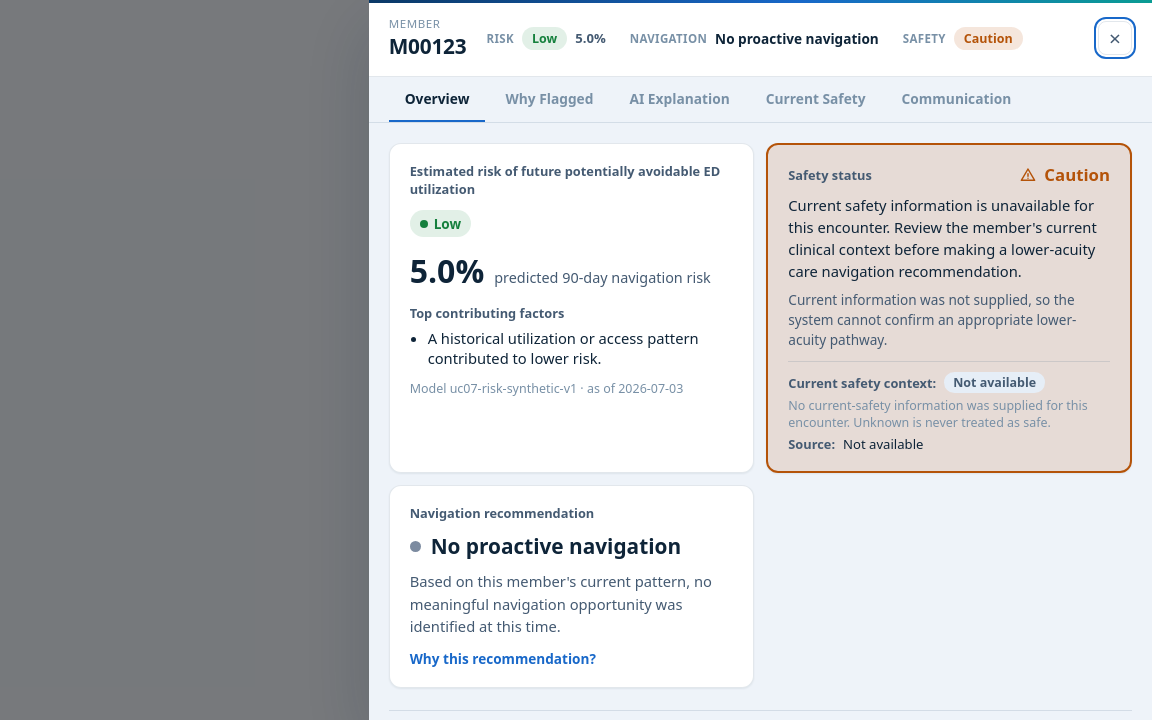
Test: MemberDetailsDrawer (member workspace) › does not fetch an AI explanation until the AI Explanation tab is actually opened (lazy, Part 14)
The image size is (1152, 720).
Click the tab "AI Explanation": (680, 100) [613,77,746,122]
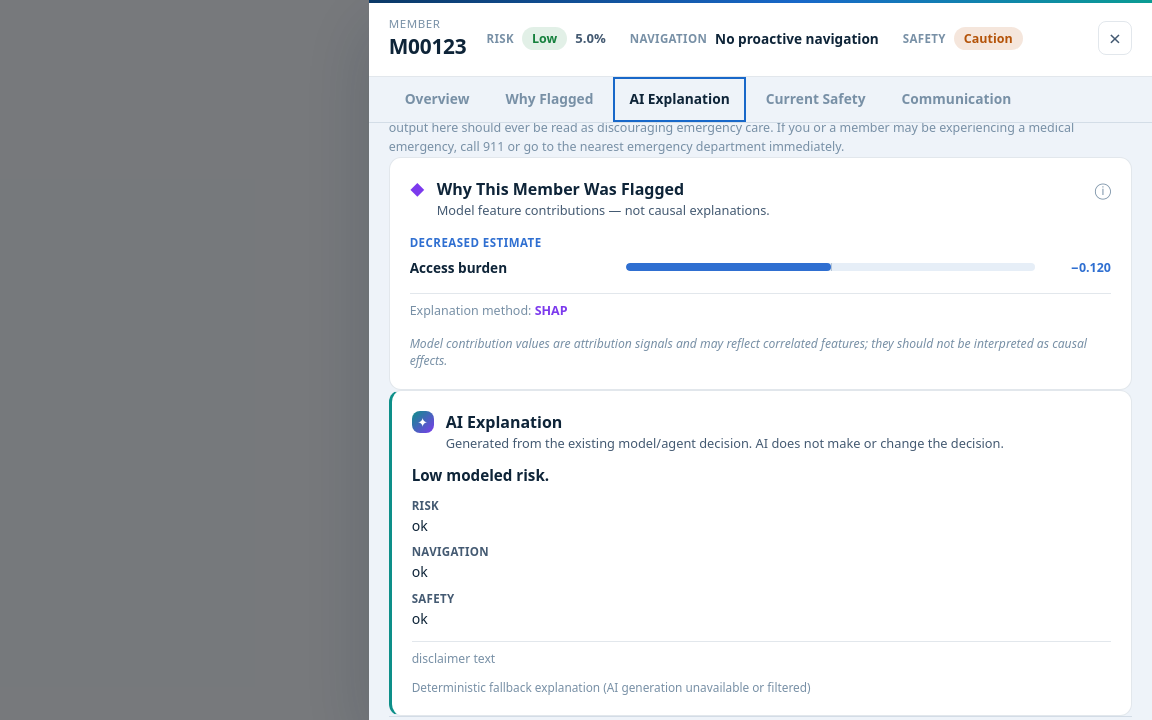
expect the heading "AI Explanation" is shown: met, box [446,410,562,432]
